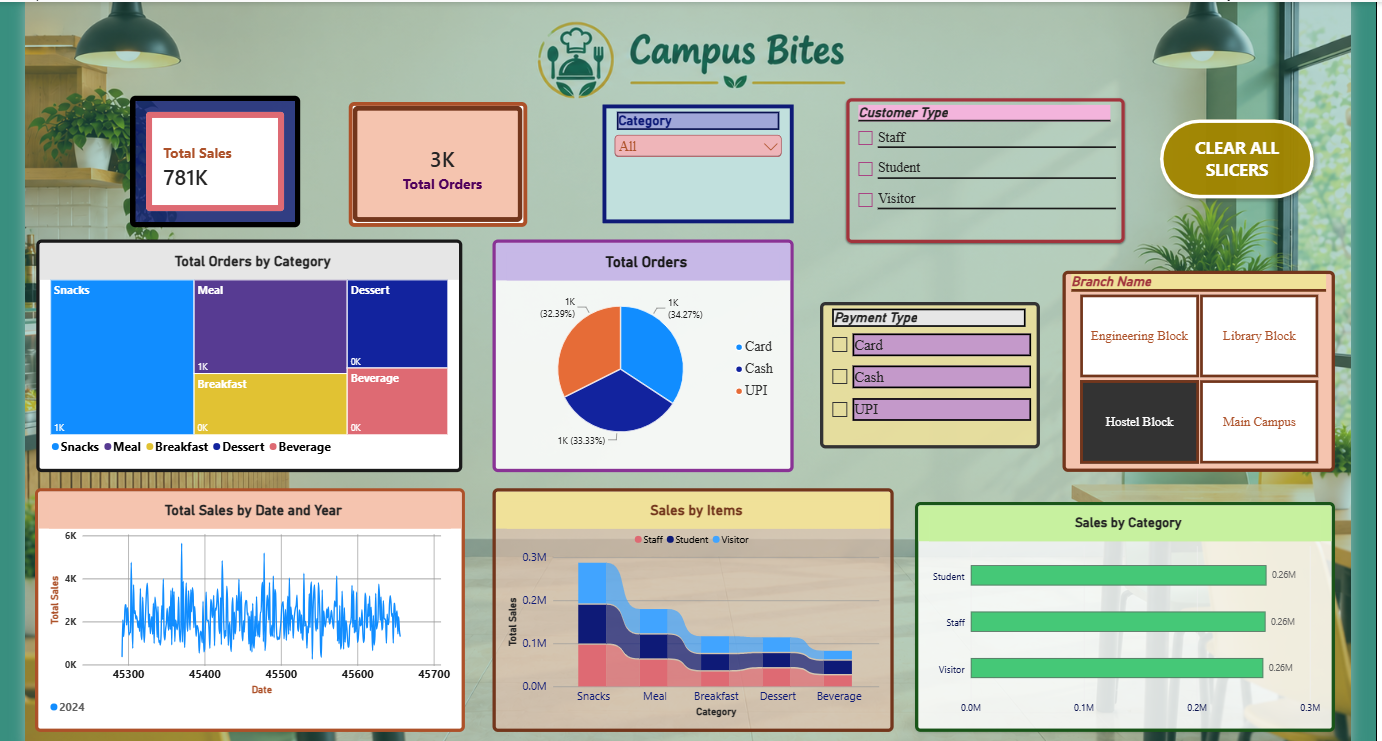

What the dashboard file says about the page in this screenshot:
{"tool":"powerbi","page":{"name":"Page 1","canvas":[1920,1080],"ordinal":0},"visuals":[{"type":"cardVisual","fields":{"Data":["Fact_Sales.Total Sales"]},"box":[152,135.7,246.1,190],"z":0},{"type":"columnChart","title":"Sales by Items","fields":{"Series":["Fact_Sales.CustomerType"],"Category":["Dim_Items.Category"],"Y":["Fact_Sales.Total Sales"]},"box":[676.8,704,580.9,352.9],"z":1000},{"type":"clusteredBarChart","title":"Sales by Category","fields":{"Y":["Fact_Sales.Total Sales"],"Category":["Fact_Sales.CustomerType"]},"box":[1288.5,723.9,608,333],"z":2000},{"type":"lineChart","fields":{"Y":["Fact_Sales.Total Sales"],"Category":["Dim_Date.Date"],"Series":["Dim_Date.Year"]},"box":[14.5,704,622.5,352.9],"z":3000},{"type":"pieChart","title":"Total Orders ","fields":{"Category":["Dim_Payment.PaymentType"],"Y":["Fact_Sales.Total Orders"]},"box":[676.8,343.8,436.1,336.6],"z":4000},{"type":"treemap","fields":{"Group":["Dim_Items.Category"],"Values":["Fact_Sales.Total Orders"]},"box":[16.3,343.8,617.1,336.6],"z":5000},{"type":"slicer","fields":{"Values":["Dim_Branch.BranchName"]},"box":[1502,389.1,394.5,291.4],"z":6000},{"type":"slicer","fields":{"Values":["Dim_Items.Category"]},"box":[836.1,148.4,276.9,171.9],"z":7000},{"type":"slicer","fields":{"Values":["Fact_Sales.CustomerType"]},"box":[1188.9,139.3,403.6,209.9],"z":8000},{"type":"slicer","fields":{"Values":["Dim_Payment.PaymentType"]},"box":[1150.9,434.3,318.5,211.7],"z":9000},{"type":"cardVisual","fields":{"Data":["Fact_Sales.Total Orders"]},"box":[468.7,144.8,258.8,181],"z":10000},{"type":"actionButton","box":[1634.1,161.1,240.7,132.1],"z":11000}]}

Visuals, with their boxes in screenshot pixels (x1, y1, x2, y2):
cardVisual - Fact_Sales.Total Sales: region(135, 99, 302, 228)
"Sales by Items" columnChart: region(491, 484, 884, 723)
"Sales by Category" clusteredBarChart: region(905, 497, 1316, 723)
lineChart - Fact_Sales.Total Sales x Dim_Date.Date: region(42, 484, 464, 723)
"Total Orders " pieChart: region(491, 240, 786, 468)
treemap - Dim_Items.Category x Fact_Sales.Total Orders: region(43, 240, 461, 468)
slicer - Dim_Branch.BranchName: region(1049, 271, 1316, 468)
slicer - Dim_Items.Category: region(598, 108, 786, 224)
slicer - Fact_Sales.CustomerType: region(837, 102, 1110, 244)
slicer - Dim_Payment.PaymentType: region(812, 301, 1027, 445)
cardVisual - Fact_Sales.Total Orders: region(350, 105, 525, 228)
actionButton: region(1139, 116, 1302, 206)
